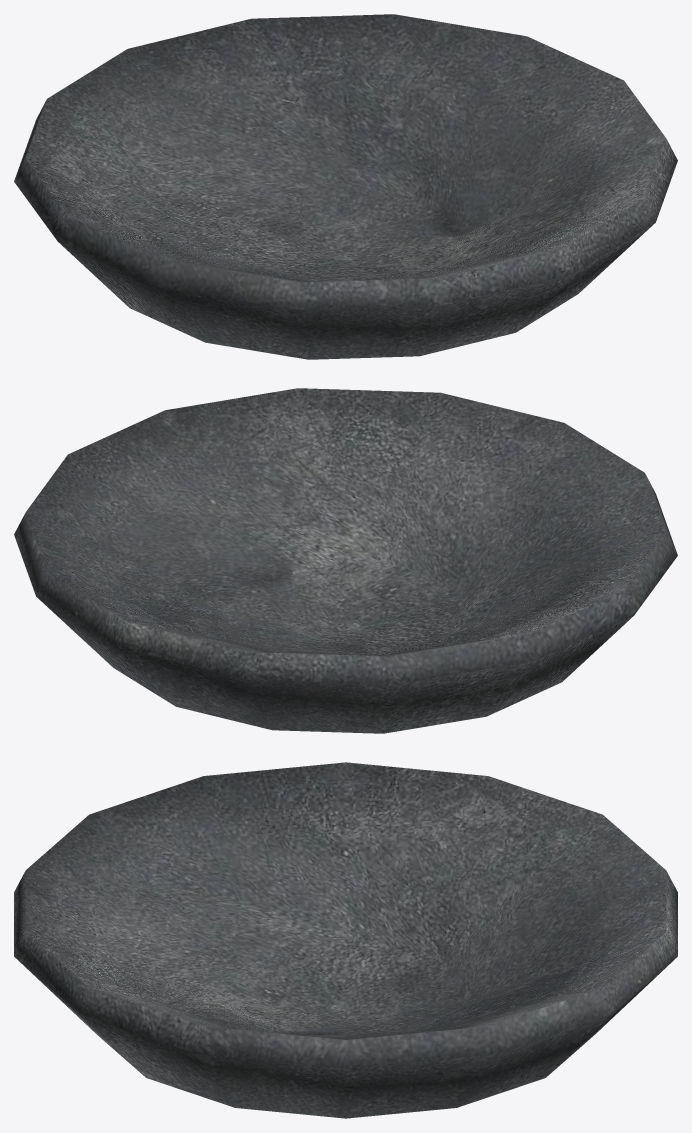
Rendered from KM_VOB_MERCHANT_BOWL_02.glb.
The picture shows the model from 3 angles, top to bottom: view 1: azimuth 30°, elevation 25°; view 2: azimuth 150°, elevation 25°; view 3: azimuth 270°, elevation 25°; orthographic projection. The views are drawn at different scales.
Parts seen in each view (by area): view 1: Mesh; view 2: Mesh; view 3: Mesh.
Part boxes in pixels (<box>): Mesh: <box>14,14,677,359</box>; Mesh: <box>14,388,677,733</box>; Mesh: <box>14,762,677,1118</box>.
Bounding box in the file's own units: 0.2931 × 0.0527 × 0.2858.
Materials: 1 (1 with a texture image).
